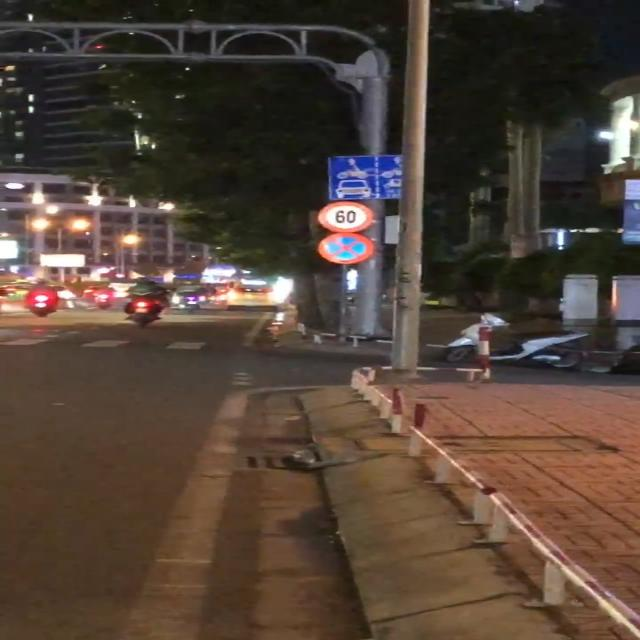Bien bao cam dung xe va do xe: (310, 232, 378, 268)
